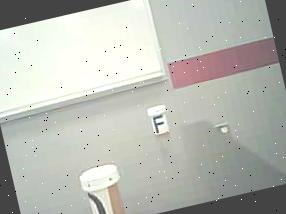Bottle D: (70, 152, 140, 214)
Bottle F: (141, 99, 180, 144)
